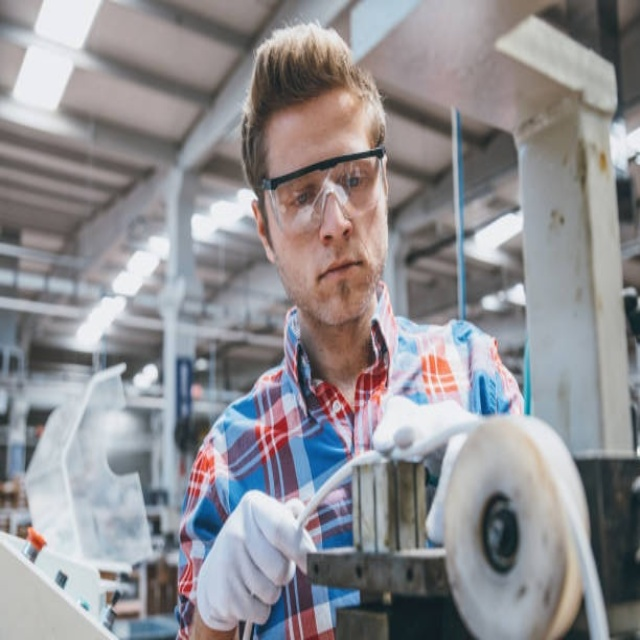Gafas: (261, 147, 386, 234)
Guantes: (196, 488, 311, 632)
Sin_mascara: (311, 243, 372, 312)
